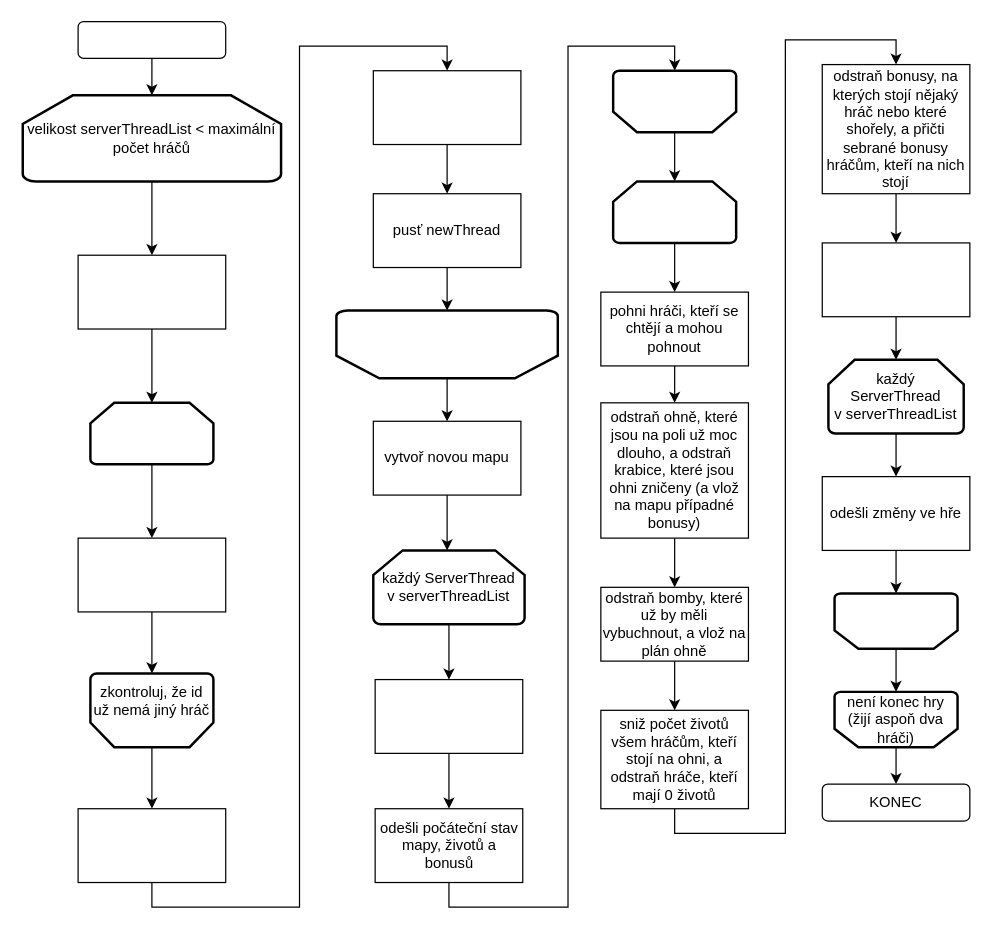
The diagram is 991 pixels wide and 938 high, and some of its shapes have lost their labels. Here are the shapes that lost their labels. From the top down, the centre of each, then its label:
the point at 151,39: START
the point at 446,107: do serverThreadList přidej newThread
the point at 674,212: (hlavní herní smyčka)
the point at 151,291: ulož si socket (jakmile se připojí nový klient)
the point at 895,279: polož bomby u hráčů, kteří je chtějí a mohou položit
the point at 151,574: id ← náhodný int
the point at 448,715: odešli počáteční informace (jména hráčů, id čísla, barvy)
the point at 151,845: newThread ← nová instance ServerThread
